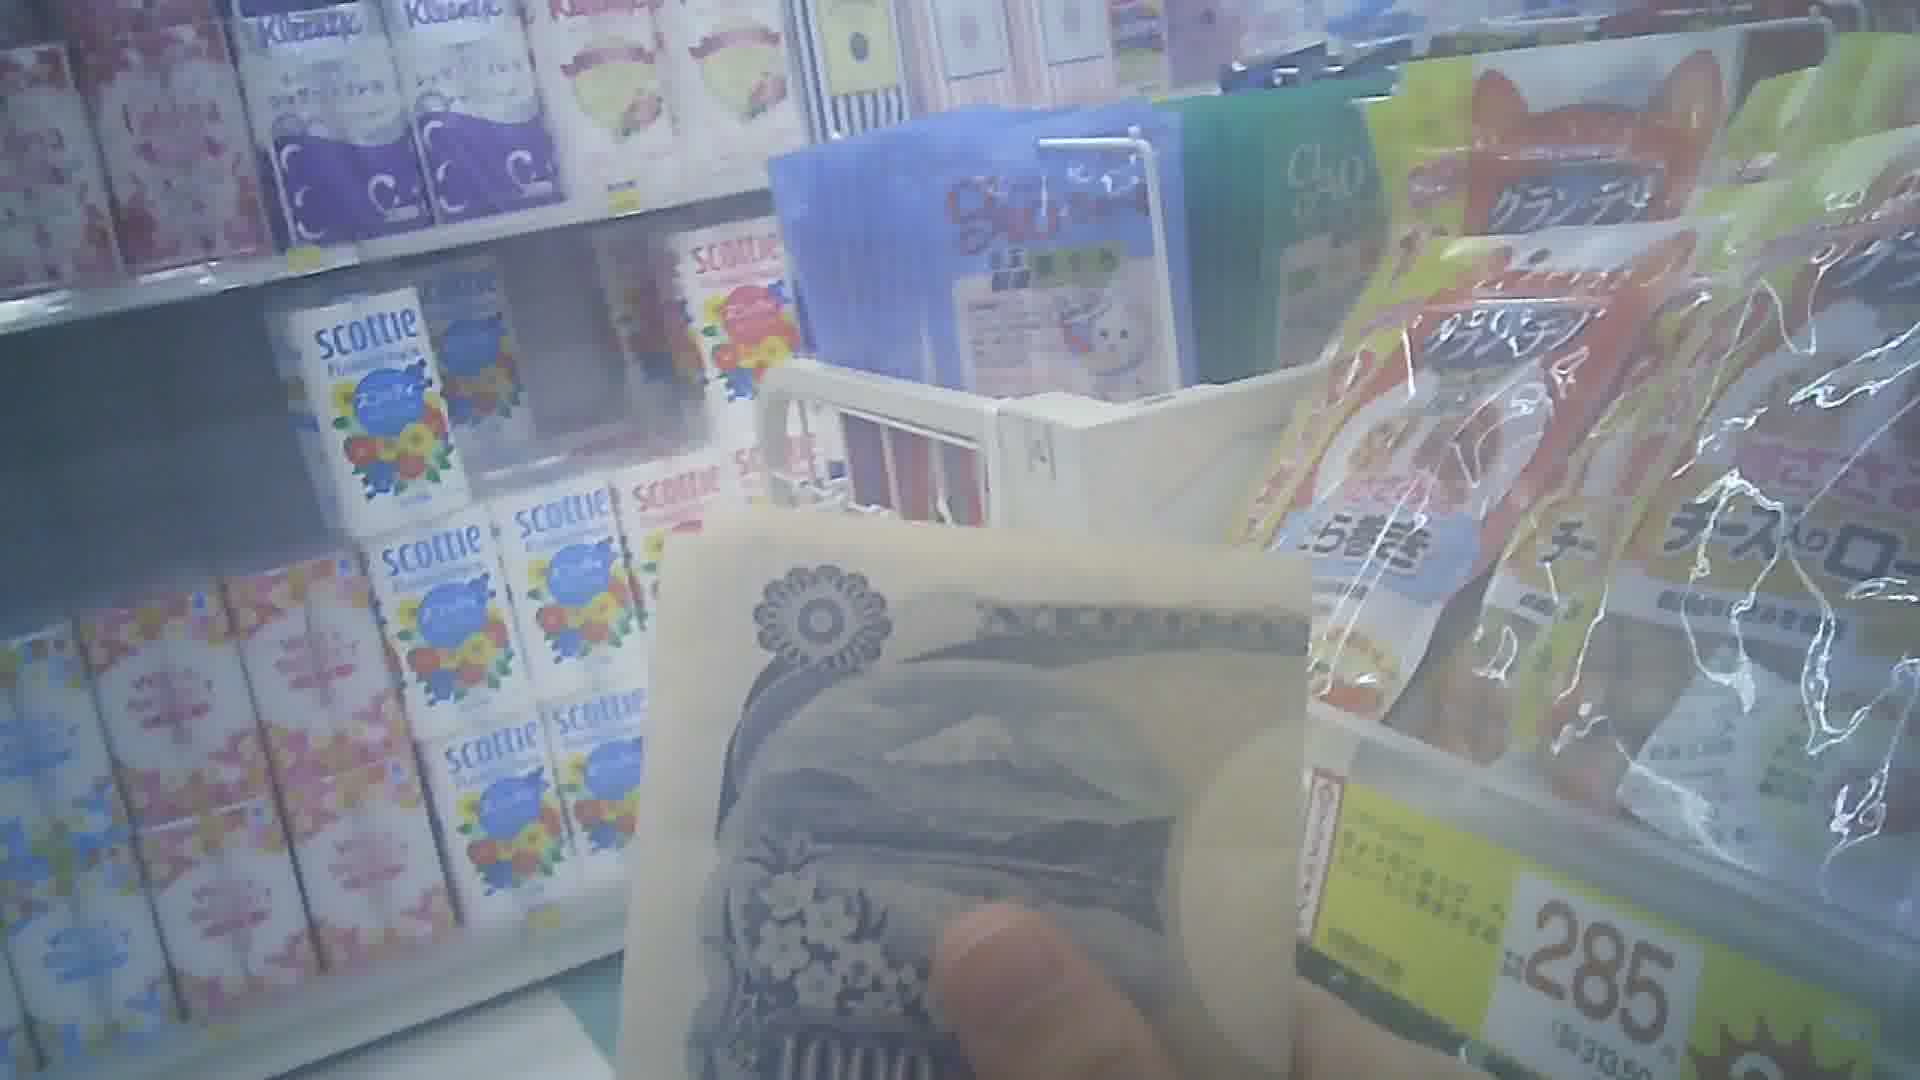1,000 Yen: (633, 500, 1291, 1079)
